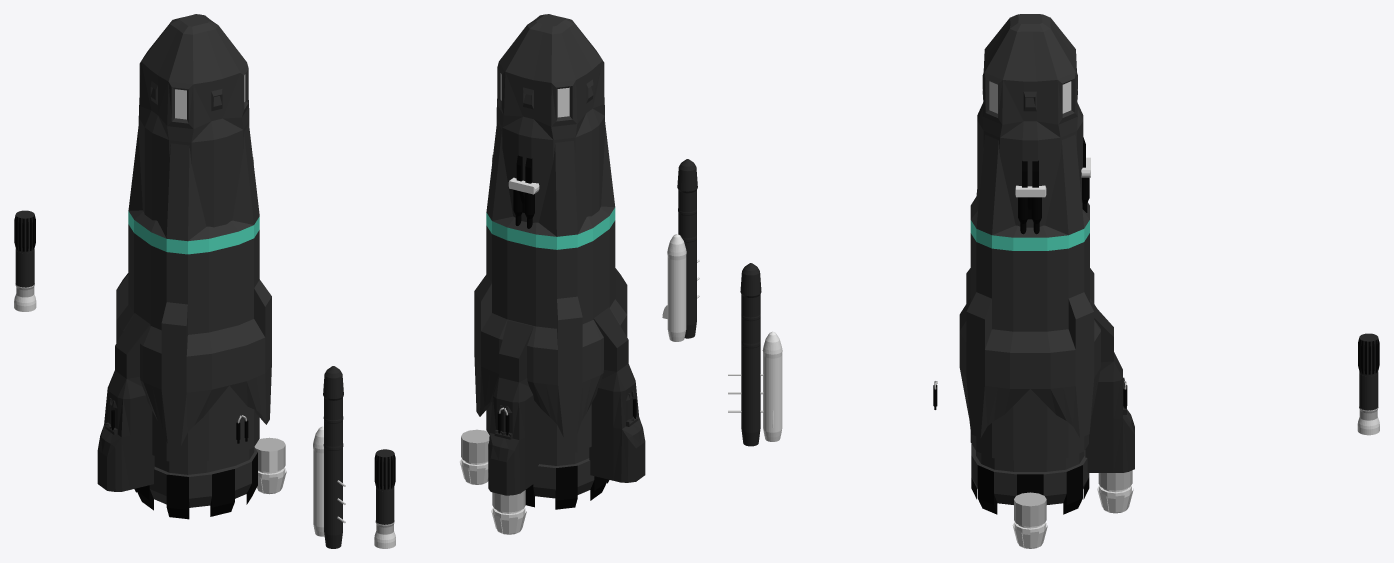
Rendered from SavitirII.gltf.
3 views of the same model, side by side, from view 1: azimuth 30°, elevation 25°; view 2: azimuth 150°, elevation 25°; view 3: azimuth 270°, elevation 25° (orthographic). The views are drawn at different scales.
Parts seen in each view (by area): view 1: Body, ThrusterPipe, Cylinder, Cylinder.002, Cylinder.004; view 2: Body, ThrusterPipe, ThrusterPipe2, Cylinder, Cylinder.004, Cylinder.002, CockpitPipes; view 3: Body, ThrusterPipe2, Cylinder, Cylinder.002, Cylinder.004, ThrusterPipe, CockpitPipes2.
Boxes of the visible parts, <box> form: Body: <box>116,14,271,519</box>; ThrusterPipe: <box>97,313,286,494</box>; Cylinder: <box>323,366,343,548</box>; Cylinder.002: <box>14,210,36,311</box>; Cylinder.004: <box>313,426,324,536</box>; Body: <box>474,14,627,509</box>; ThrusterPipe: <box>459,307,645,484</box>; ThrusterPipe2: <box>488,320,538,534</box>; Cylinder: <box>677,159,697,338</box>; Cylinder.004: <box>662,234,686,341</box>; Cylinder.002: <box>374,449,395,548</box>; CockpitPipes: <box>508,155,539,228</box>; Body: <box>959,14,1100,514</box>; ThrusterPipe2: <box>1085,301,1134,513</box>; Cylinder: <box>740,263,761,446</box>; Cylinder.002: <box>1357,333,1379,435</box>; Cylinder.004: <box>762,331,782,441</box>; ThrusterPipe: <box>1012,492,1047,548</box>; CockpitPipes2: <box>1015,160,1046,234</box>.
Bounding box in the file's own units: 22.09 × 56.57 × 68.31.
